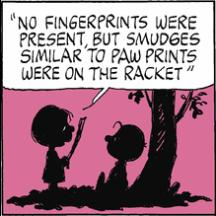charlie: (94, 121, 146, 199)
